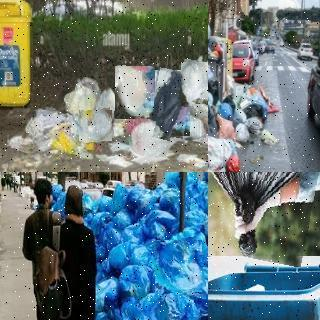Garbage: (208, 172, 320, 261), (149, 69, 193, 138), (153, 238, 204, 294), (115, 66, 155, 119), (147, 285, 203, 320), (118, 260, 162, 302), (129, 118, 172, 157), (104, 240, 155, 267), (179, 60, 208, 105), (78, 109, 113, 142), (142, 207, 176, 240), (156, 187, 185, 218), (89, 210, 114, 236), (102, 226, 127, 252), (108, 181, 128, 211), (135, 190, 156, 215), (129, 182, 143, 207), (89, 309, 118, 320)
